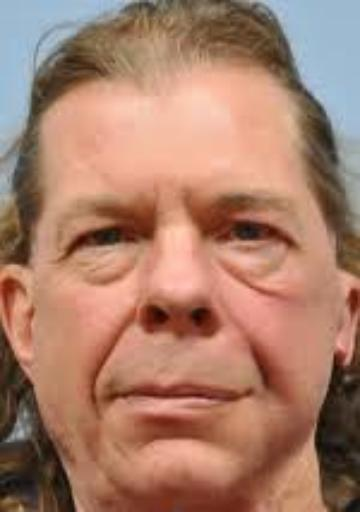left_eye: (216, 219, 296, 255)
left_lip_corner: (234, 373, 266, 407)
right_eye: (69, 225, 142, 259)
right_lip_corner: (100, 378, 134, 408)
